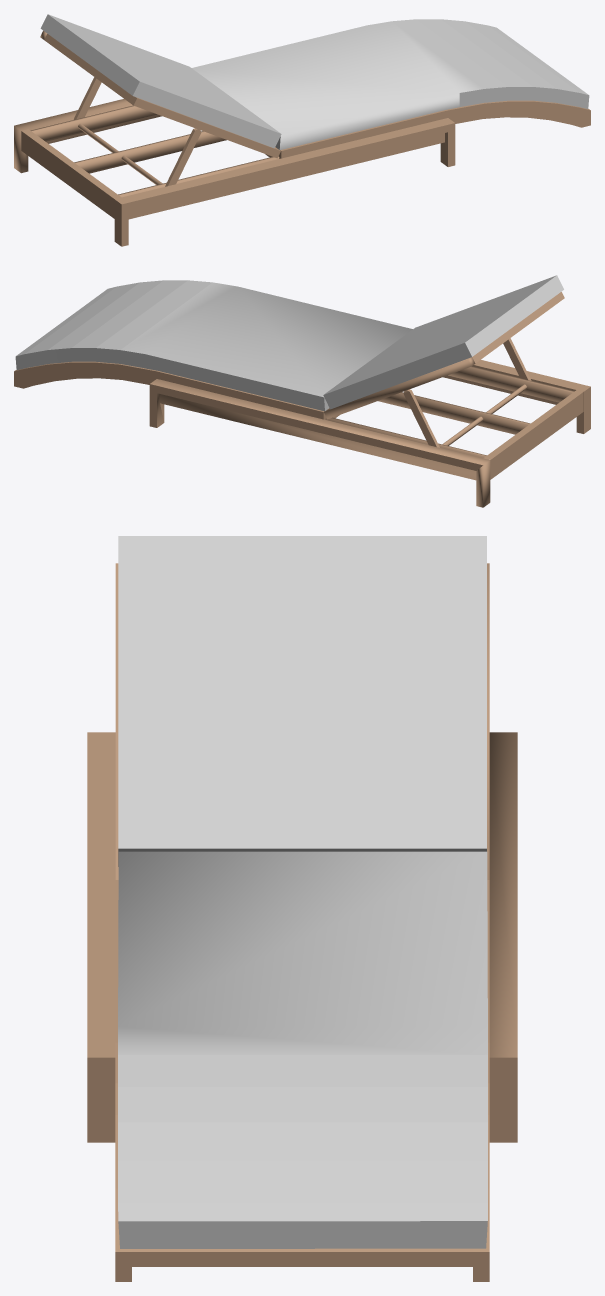
File: Sun_Bed_01.gltf
The picture shows the model from 3 angles, top to bottom: view 1: azimuth 30°, elevation 25°; view 2: azimuth 150°, elevation 25°; view 3: azimuth 270°, elevation 25°; orthographic projection. The views are drawn at different scales.
Visible parts, largest first — view 1: Bot_Cush, Bot, Top_Cush, Top, Supports; view 2: Bot_Cush, Bot, Top_Cush, Top, Supports; view 3: Bot_Cush, Top_Cush, Bot, Top.
Boxes of the visible parts, x1=… form: Bot_Cush: x1=192, y1=19, x2=589, y2=149; Bot: x1=14, y1=99, x2=590, y2=246; Top_Cush: x1=40, y1=14, x2=281, y2=148; Top: x1=40, y1=30, x2=280, y2=158; Supports: x1=73, y1=77, x2=201, y2=186; Bot_Cush: x1=15, y1=280, x2=412, y2=411; Bot: x1=14, y1=360, x2=590, y2=507; Top_Cush: x1=323, y1=275, x2=563, y2=409; Top: x1=324, y1=292, x2=564, y2=419; Supports: x1=403, y1=338, x2=531, y2=447; Bot_Cush: x1=118, y1=851, x2=487, y2=1248; Top_Cush: x1=118, y1=536, x2=486, y2=866; Bot: x1=87, y1=732, x2=517, y2=1281; Top: x1=115, y1=563, x2=489, y2=879.
Bounding box in the file's own units: 2 × 0.6146 × 0.7829.
